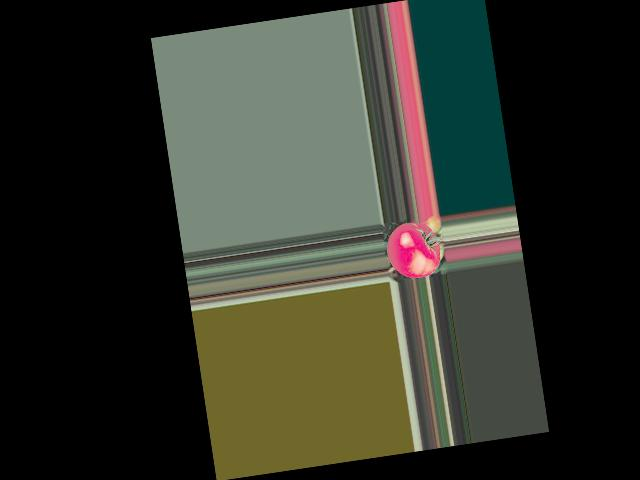tomato: (383, 219, 443, 282)
